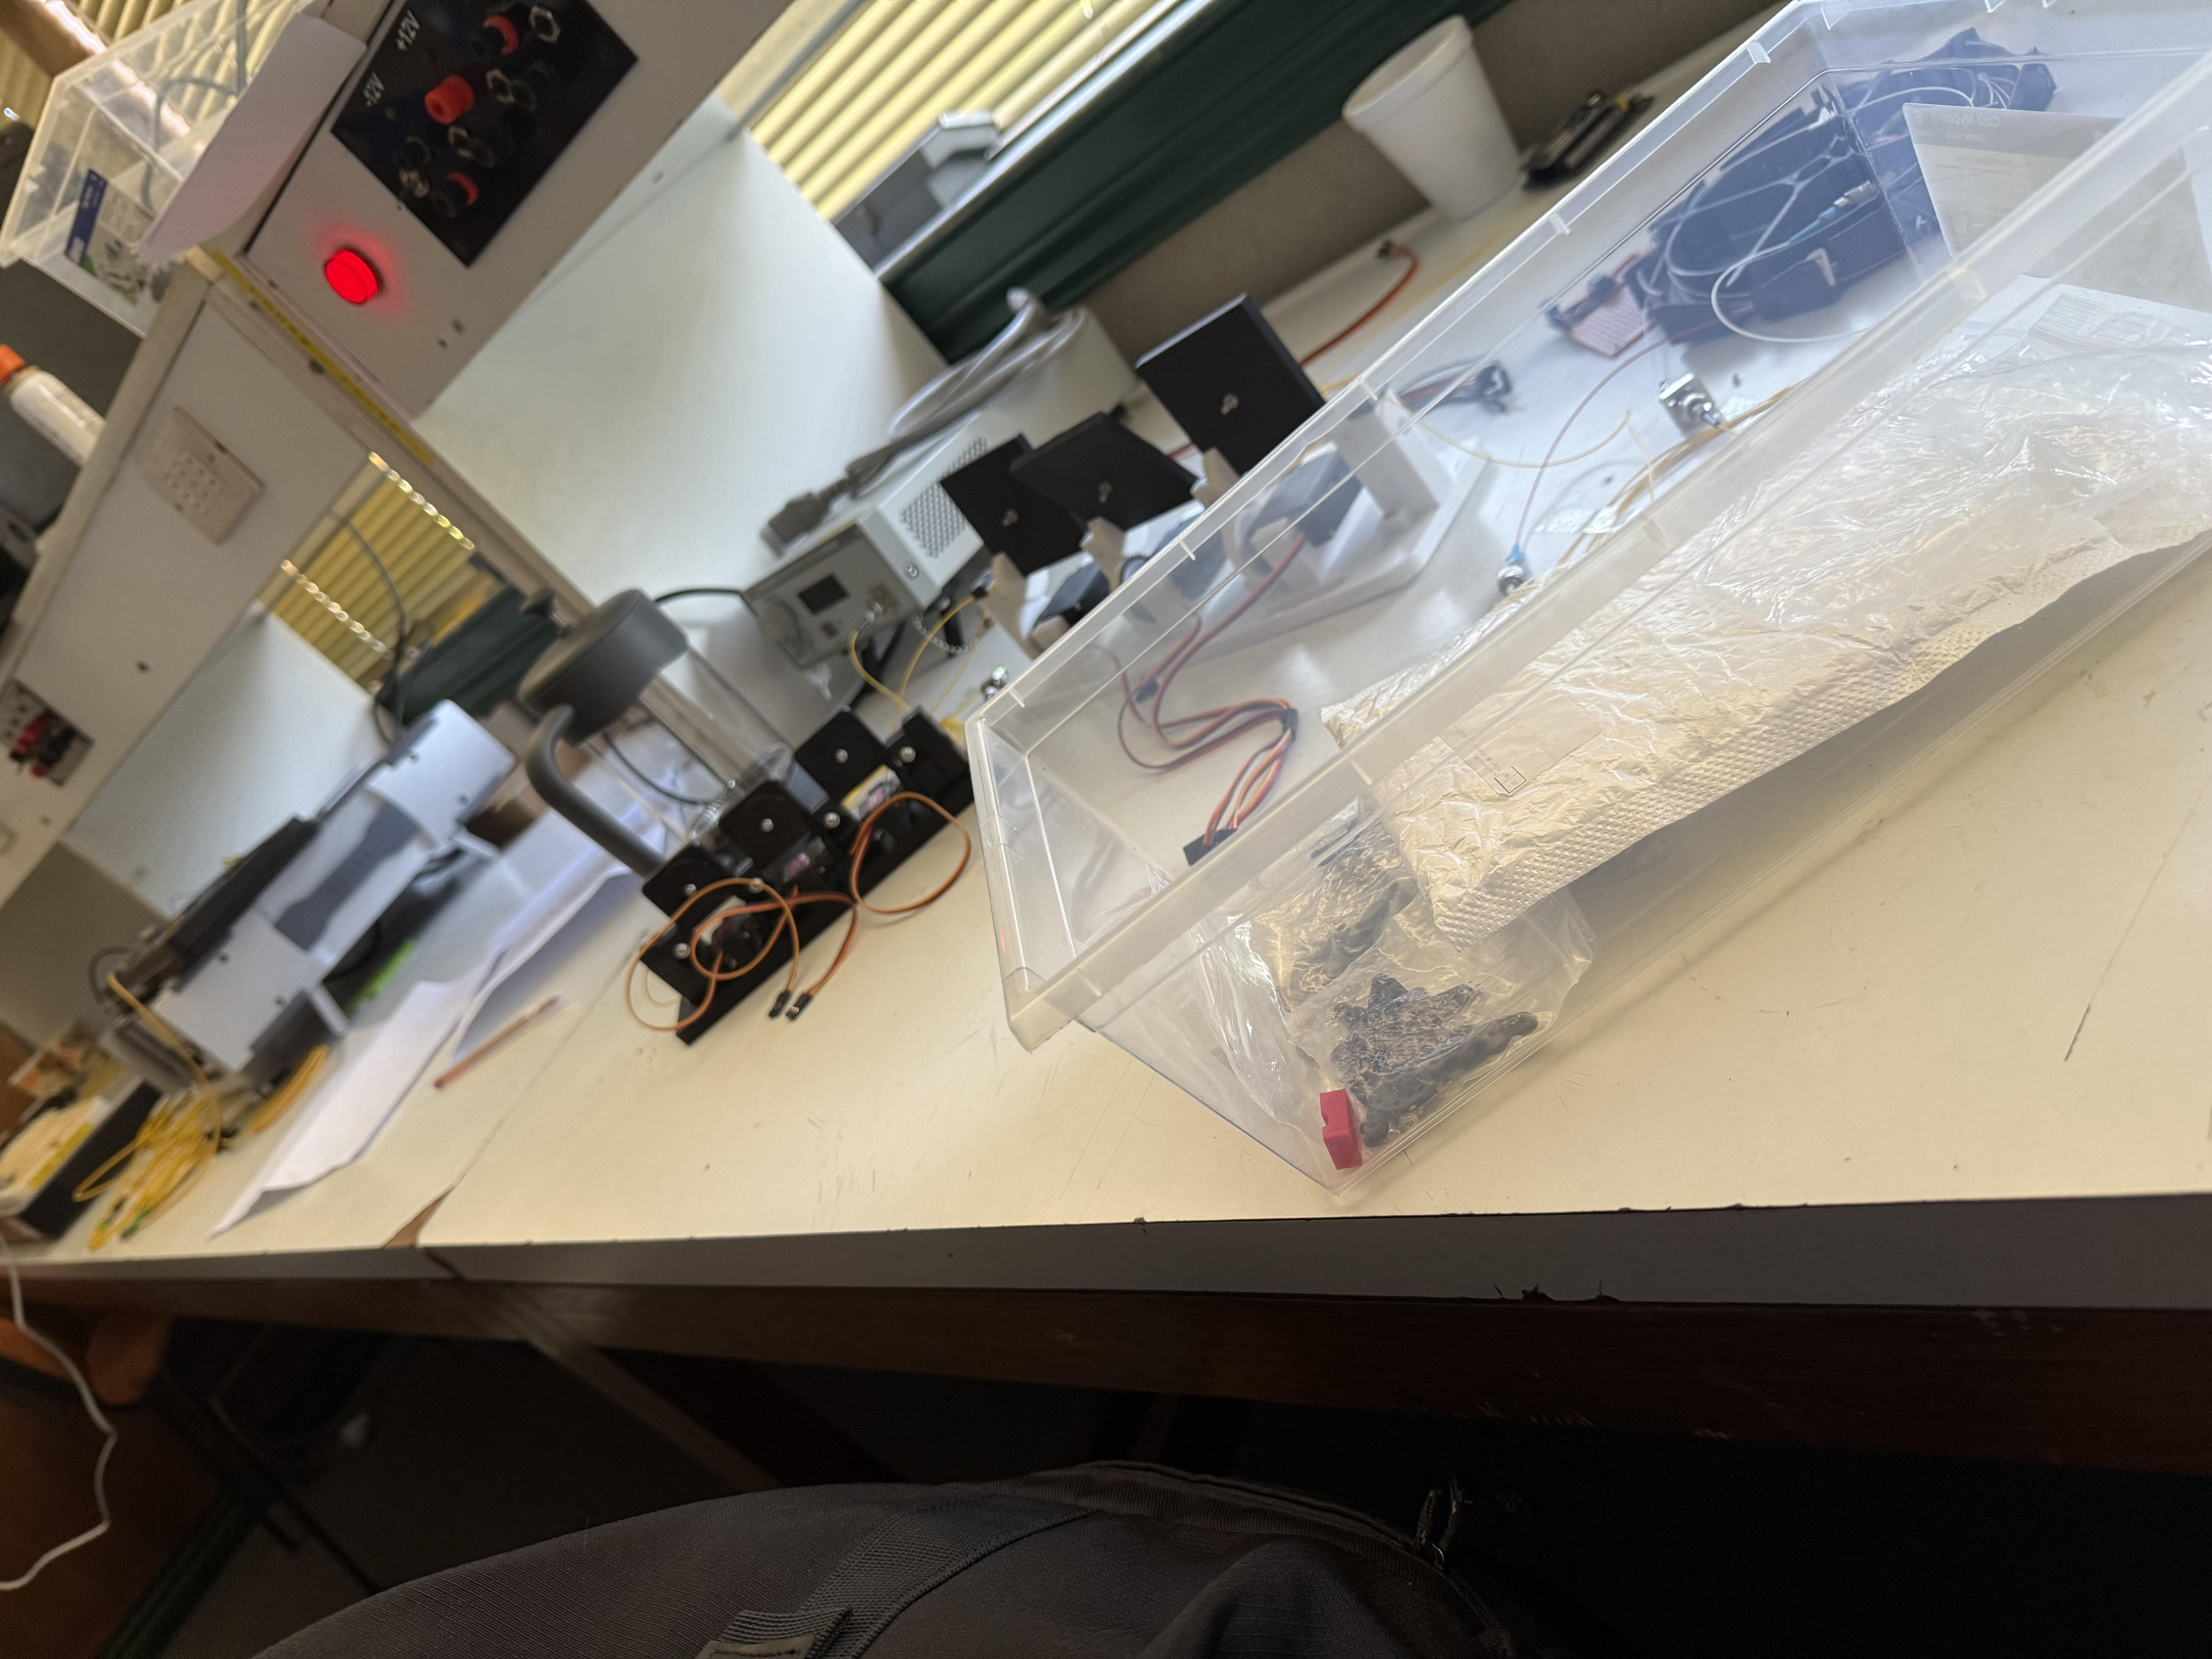laser: (728, 300, 1183, 711)
paddle_polarization_controller: (932, 275, 1529, 774), (610, 713, 1036, 1086)
